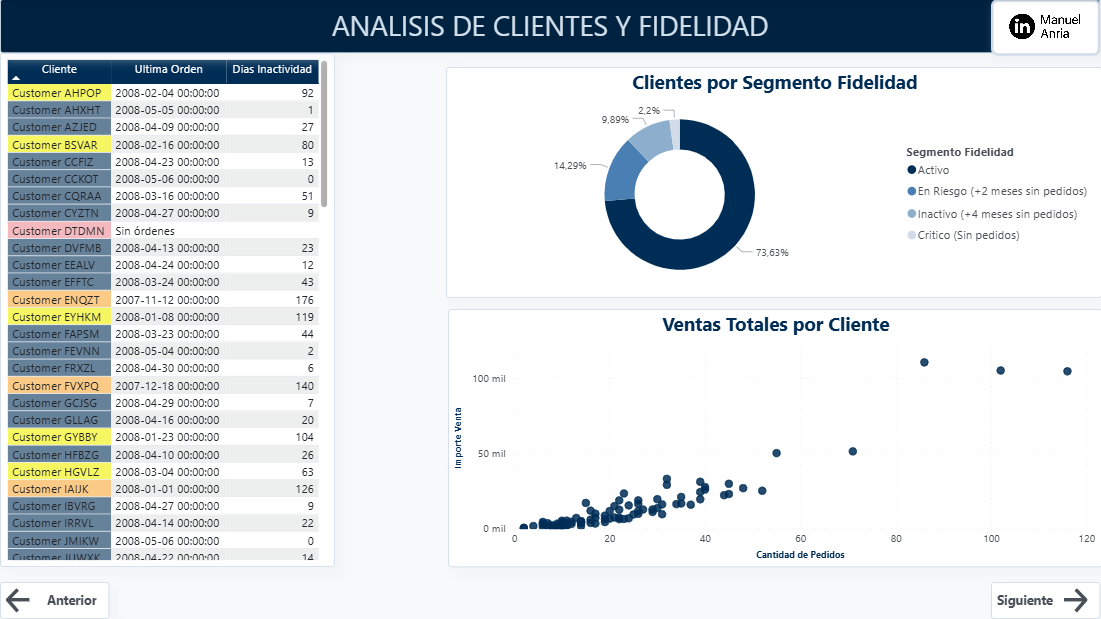

This screenshot's page, from the dashboard's own definition file:
{"tool":"powerbi","page":{"name":"Analisis de Clientes","canvas":[1280,720],"ordinal":1},"visuals":[{"type":"donutChart","title":"Clientes por Segmento Fidelidad","fields":{"Category":["northwind view_segmentacion_clientes.Segmento_Fidelidad"],"Y":["CountNonNull(northwind view_segmentacion_clientes.Cliente)"]},"box":[518,79,762,268.3],"z":0},{"type":"actionButton","title":"Página Siguiente","box":[1151.1,677,126.6,43],"z":1000},{"type":"actionButton","title":"Página Siguiente","box":[0,677.2,126.6,43],"z":2000},{"type":"scatterChart","title":"Ventas Totales por Cliente","fields":{"X":["CountNonNull(northwind view_hechos_ventas.orderId)"],"Y":["Sum(northwind view_hechos_ventas.Total_Neto)"],"Category":["northwind view_hechos_ventas.Cliente"]},"box":[520.4,360.1,759.6,299.7],"z":3000},{"type":"tableEx","fields":{"Values":["northwind view_segmentacion_clientes.Cliente","Min(northwind view_segmentacion_clientes.Ultima_Orden)","Sum(northwind view_segmentacion_clientes.Dias_Inactividad)"]},"box":[0,62.7,389.1,597],"z":4000},{"type":"textbox","box":[0,0,1277.7,62.7],"z":5000},{"type":"image","box":[1151.1,0,126.6,66.2],"z":6000}]}

Visuals, with their boxes on the page's 1280x720 design canvas (x1, y1, x2, y2). These are canvas units, not pixel positions in the 1101x619 screenshot, which may show the page scaled, cropped or inside an application window:
"Clientes por Segmento Fidelidad" donutChart: 518:79:1280:347
"Página Siguiente" actionButton: 1151:677:1278:720
"Página Siguiente" actionButton: 0:677:127:720
"Ventas Totales por Cliente" scatterChart: 520:360:1280:660
tableEx - northwind view_segmentacion_clientes.Cliente x Min(northwind view_segmentacion_clientes.Ultima_Orden): 0:63:389:660
textbox: 0:0:1278:63
image: 1151:0:1278:66
